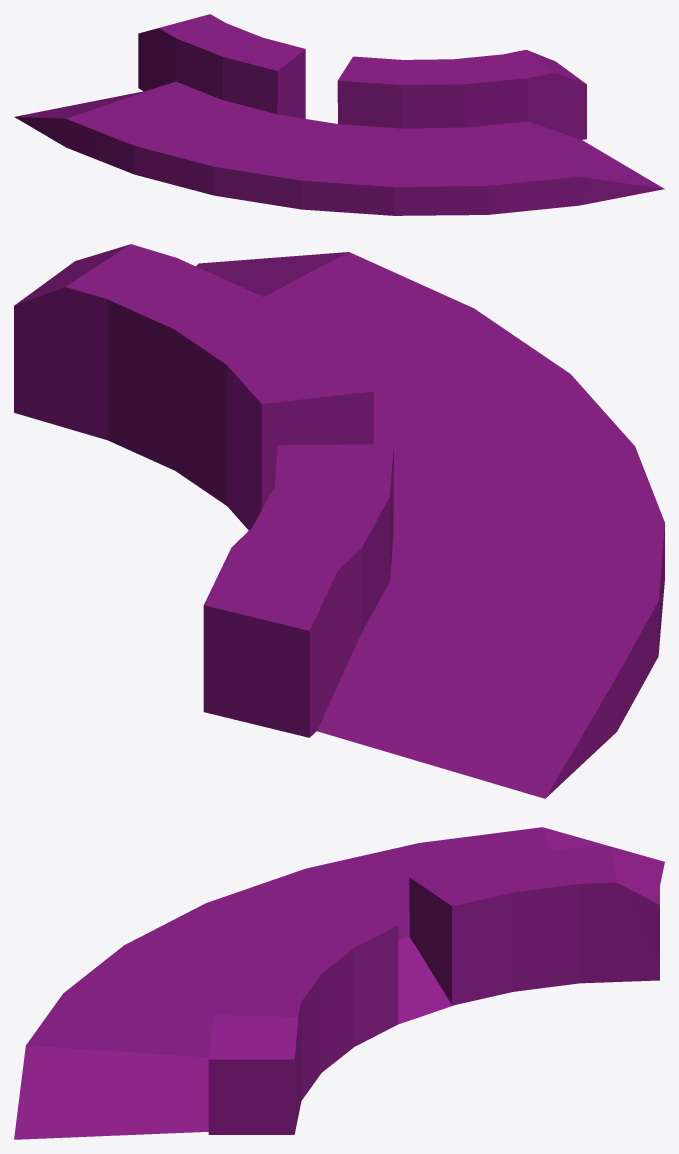
Rendered from cover1.fbx.
3 views of the same model, one above another, from view 1: azimuth 30°, elevation 25°; view 2: azimuth 150°, elevation 25°; view 3: azimuth 270°, elevation 25° (orthographic). The views are drawn at different scales.
Visible parts, largest first — view 1: courtyard_cover3; view 2: courtyard_cover3; view 3: courtyard_cover3.
Part boxes in pixels (bbox=[...]): courtyard_cover3: bbox=[14, 14, 664, 215]; courtyard_cover3: bbox=[14, 244, 664, 798]; courtyard_cover3: bbox=[14, 827, 664, 1139].
Size of the model in its own units: 30 by 5 by 29.69.
